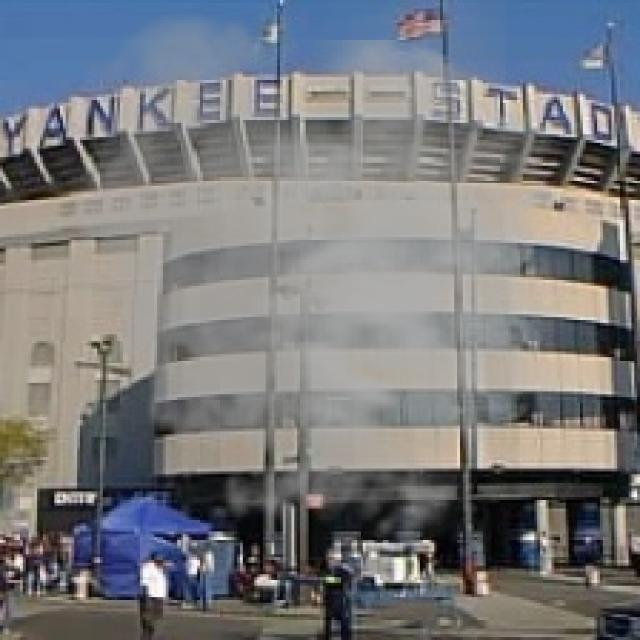Smoke: (46, 0, 603, 557)
